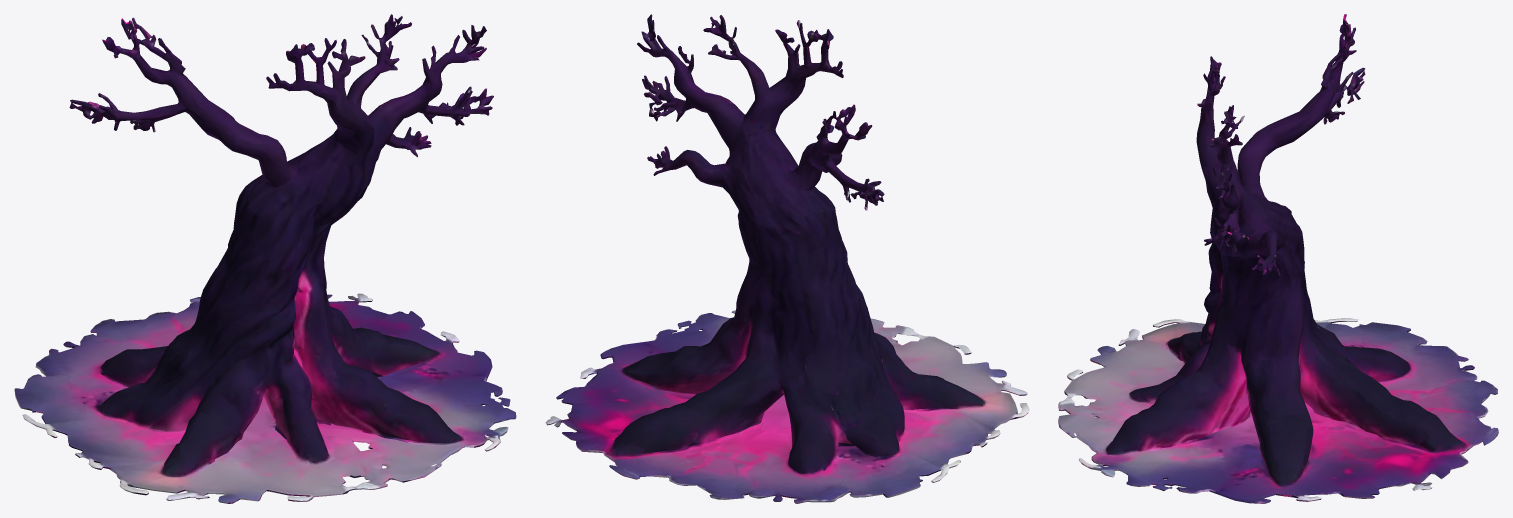
Rendered from sea-root-sw-generated-2026-05-17T19-49-55-517Z.low.glb.
3 views of the same model, side by side, from view 1: azimuth 30°, elevation 25°; view 2: azimuth 150°, elevation 25°; view 3: azimuth 270°, elevation 25° (orthographic). The views are drawn at different scales.
Visible parts, largest first — view 1: temp_mesh.ply; view 2: temp_mesh.ply; view 3: temp_mesh.ply.
Part boxes in pixels (x1=…): temp_mesh.ply: x1=14, y1=14, x2=516, y2=503; temp_mesh.ply: x1=545, y1=14, x2=1029, y2=503; temp_mesh.ply: x1=1058, y1=14, x2=1498, y2=503.
Size of the model in its own units: 1.95 by 1.74 by 1.97.
Materials: 1 (1 with a texture image).
